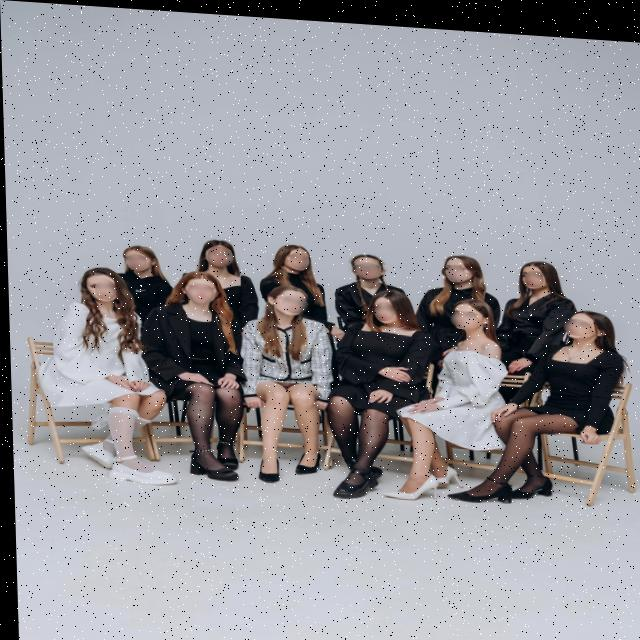Person: (434, 295, 639, 514), (51, 265, 177, 497), (379, 290, 515, 502), (311, 279, 431, 512), (235, 286, 334, 488), (175, 272, 248, 486), (495, 244, 587, 372), (260, 230, 330, 323), (111, 236, 181, 326), (409, 241, 493, 307), (193, 235, 270, 306), (329, 241, 395, 323)
